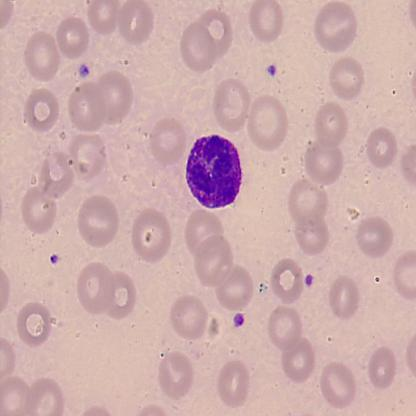Basophil: (183, 132, 244, 211)
